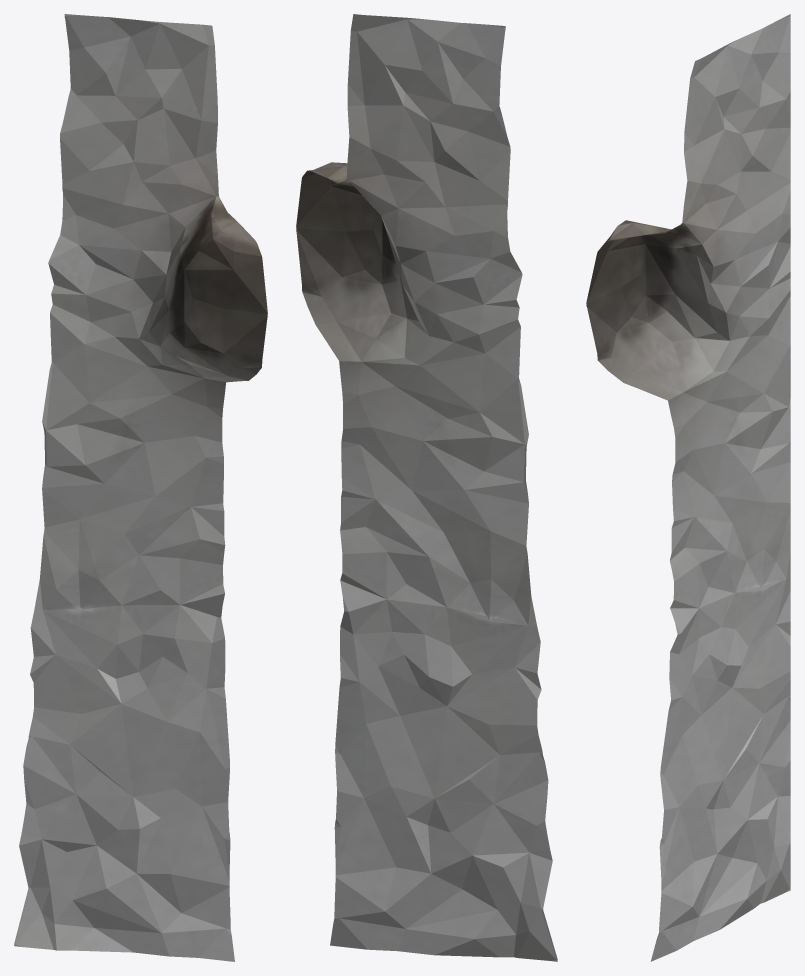
3 views of the same model, side by side, from view 1: azimuth 30°, elevation 25°; view 2: azimuth 210°, elevation 25°; view 3: azimuth 270°, elevation 25° (orthographic). The views are drawn at different scales.
Bounding box in the file's own units: 0.1424 × 0.8374 × 0.1721.
Materials: 1 (1 with a texture image).
